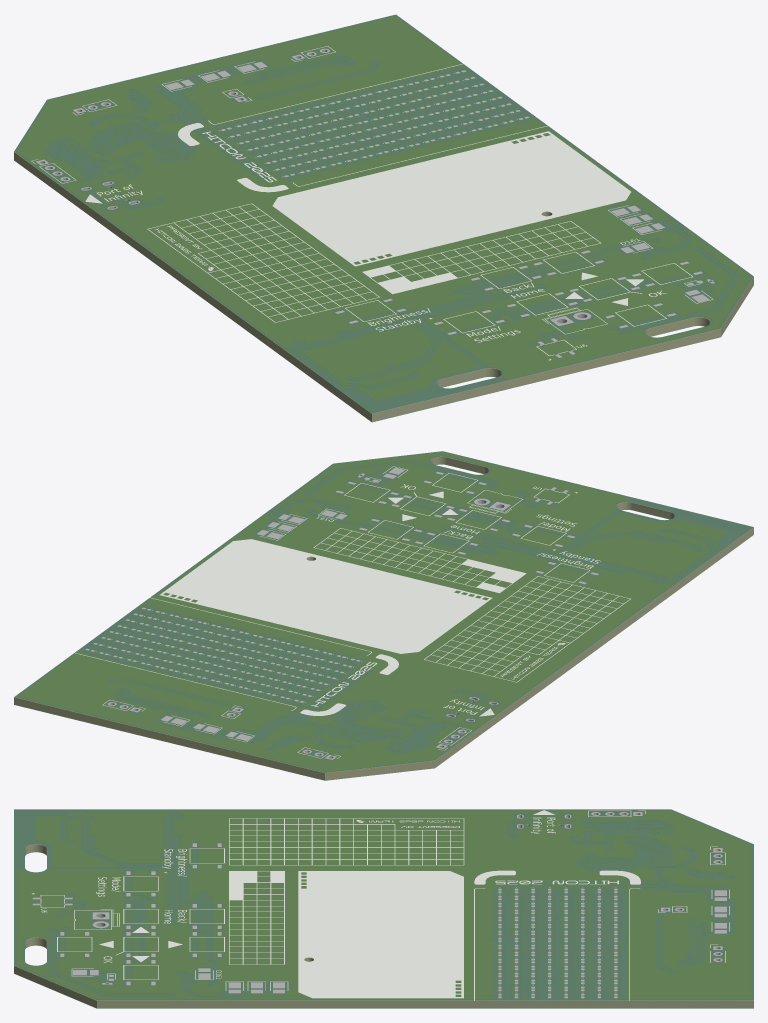
Rendered from hitcon-cmt-2024-pcb-badge.glb.
The picture shows the model from 3 angles, top to bottom: view 1: azimuth 30°, elevation 25°; view 2: azimuth 150°, elevation 25°; view 3: azimuth 270°, elevation 25°; orthographic projection. The views are drawn at different scales.
Visible parts, largest first — view 1: =>[0:1:1:7], =>[0:1:1:2], =>[0:1:1:5], =>[0:1:1:9]; view 2: =>[0:1:1:7], =>[0:1:1:2], =>[0:1:1:5], =>[0:1:1:9]; view 3: =>[0:1:1:7], =>[0:1:1:2], =>[0:1:1:5], =>[0:1:1:9].
Boxes of the visible parts, <box> form: =>[0:1:1:7]: <box>14,14,753,422</box>; =>[0:1:1:2]: <box>17,16,750,400</box>; =>[0:1:1:5]: <box>31,46,713,360</box>; =>[0:1:1:9]: <box>14,15,753,421</box>; =>[0:1:1:7]: <box>14,451,753,780</box>; =>[0:1:1:2]: <box>18,453,727,771</box>; =>[0:1:1:5]: <box>74,466,630,758</box>; =>[0:1:1:9]: <box>14,452,753,780</box>; =>[0:1:1:7]: <box>14,809,753,1008</box>; =>[0:1:1:2]: <box>17,811,750,999</box>; =>[0:1:1:5]: <box>32,810,729,1000</box>; =>[0:1:1:9]: <box>14,810,753,1008</box>.
Size of the model in its own units: 0.082 by 0.00166 by 0.134.
4 materials, 4 textured.
